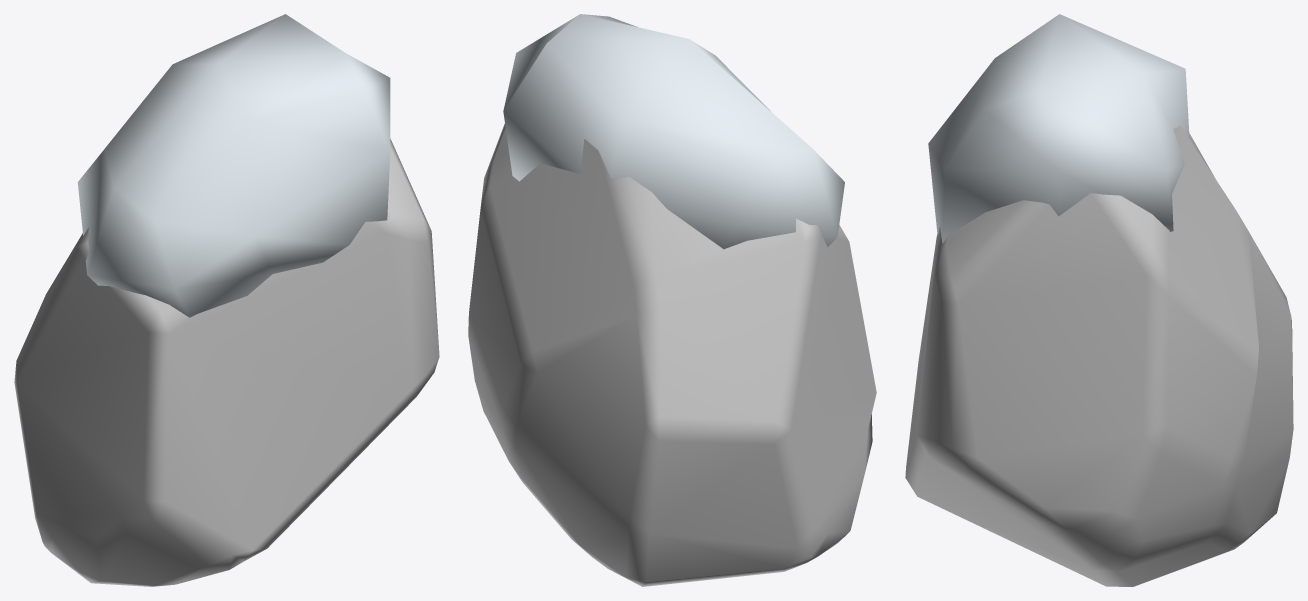
File: Polar_Stone_03.fbx
The picture shows the model from 3 angles, left to right: view 1: azimuth 30°, elevation 25°; view 2: azimuth 150°, elevation 25°; view 3: azimuth 270°, elevation 25°; orthographic projection. The views are drawn at different scales.
Parts seen in each view (by area): view 1: Polar_Stone_03; view 2: Polar_Stone_03; view 3: Polar_Stone_03.
Boxes of the visible parts, <box> form: Polar_Stone_03: <box>14,14,439,586</box>; Polar_Stone_03: <box>468,14,876,586</box>; Polar_Stone_03: <box>905,14,1293,586</box>.
Bounding box in the file's own units: 236 × 206 × 316.
